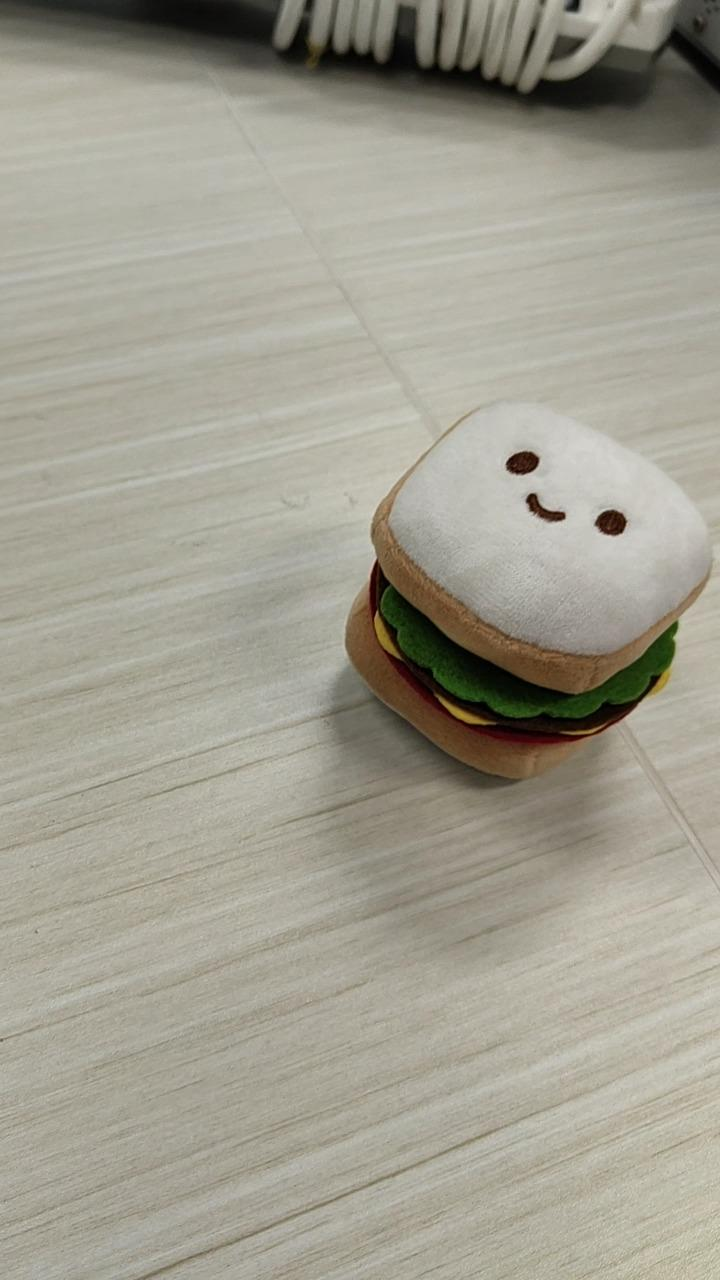objects: (343, 396, 712, 781), (269, 0, 701, 95)
